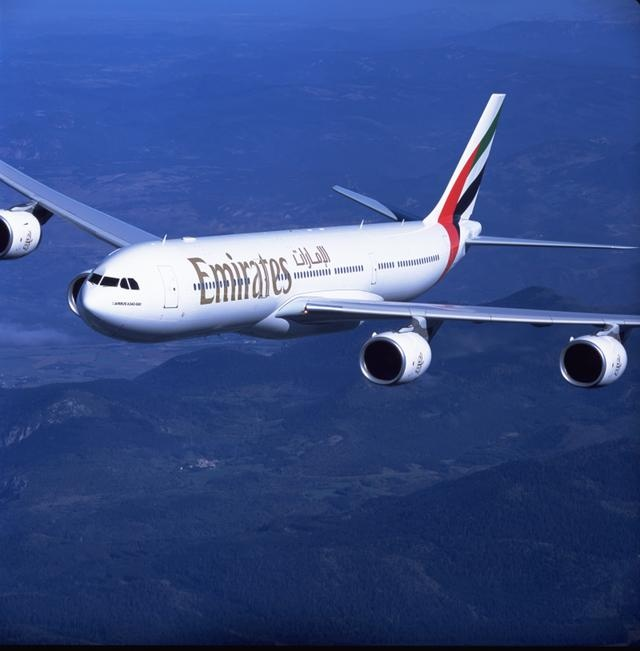airplane: (1, 97, 631, 400)
